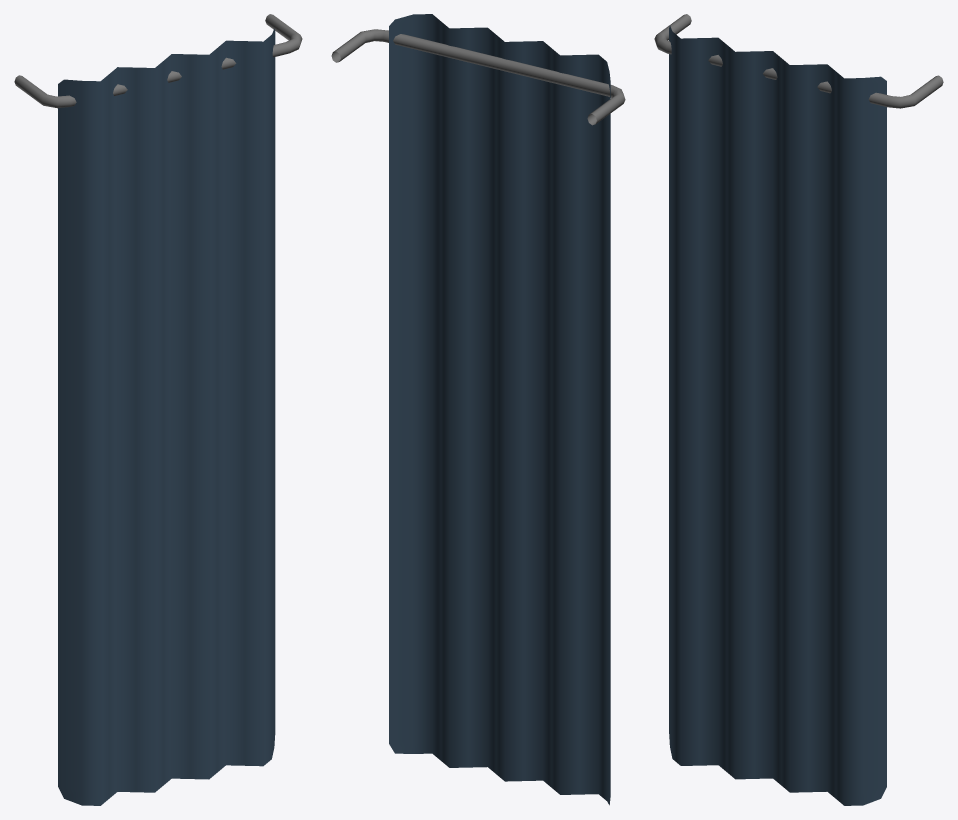
The model's file is Curtains_Single.glb.
3 views of the same model, side by side, from view 1: azimuth 30°, elevation 25°; view 2: azimuth 150°, elevation 25°; view 3: azimuth 330°, elevation 25° (orthographic). The views are drawn at different scales.
Parts seen in each view (by area): view 1: Curtains_Single; view 2: Curtains_Single; view 3: Curtains_Single.
Boxes of the visible parts, <box> form: Curtains_Single: <box>14,14,302,805</box>; Curtains_Single: <box>331,14,625,805</box>; Curtains_Single: <box>654,14,943,805</box>.
Size of the model in its own units: 1.63 by 4.34 by 0.4765.
